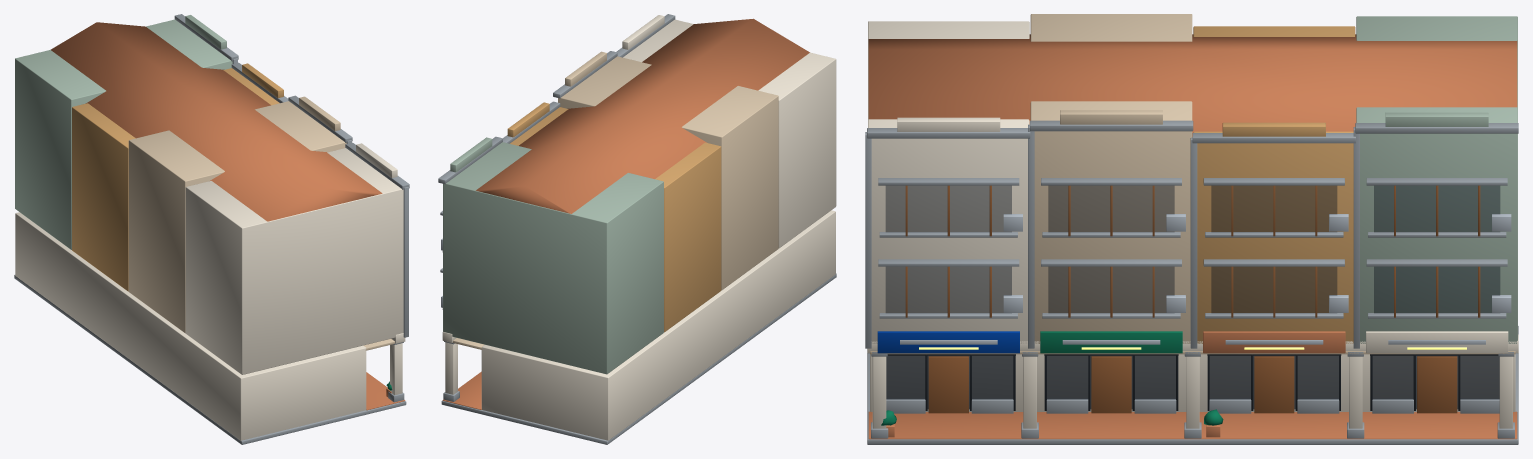
File: kl_shoplot_row.glb
3 renders of one model, left to right at view 1: azimuth 30°, elevation 25°; view 2: azimuth 150°, elevation 25°; view 3: azimuth 270°, elevation 25°, orthographic. The views are drawn at different scales.
Visible parts, largest first — view 1: Shop_UpperBlock_0, Shoplot_Pitched_Roof, Shoplot_Ground_Core, Shop_UpperBlock_1, Shop_UpperBlock_3, Shop_UpperBlock_2, Shoplot_Foundation, Shop_Pilaster_0, Shoplot_KakiLima_Floor, Shoplot_ColShaft_0, Shop_ParapetStep_1, Shop_ParapetStep_2 (+3 smaller); view 2: Shop_UpperBlock_3, Shoplot_Pitched_Roof, Shoplot_Ground_Core, Shop_UpperBlock_1, Shop_UpperBlock_0, Shop_UpperBlock_2, Shoplot_Foundation, Shoplot_KakiLima_Floor, Shoplot_ColShaft_4, Shop_ParapetStep_2, Shop_ParapetStep_3, Shop_ParapetStep_0 (+3 smaller); view 3: Shoplot_Pitched_Roof, Shop_UpperBlock_1, Shop_UpperBlock_3, Shop_UpperBlock_0, Shop_UpperBlock_2, Shoplot_Ground_Core, Shoplot_KakiLima_Floor, Shop_WinGlass_0_0, Shop_WinGlass_2_0, Shop_WinGlass_3_0, Shop_WinGlass_2_1, Shop_WinGlass_0_1 (+56 smaller).
Part boxes in pixels (x1,y1,x2,y2): Shop_UpperBlock_0: [185, 148, 403, 374]; Shoplot_Pitched_Roof: [50, 22, 382, 221]; Shoplot_Ground_Core: [15, 212, 366, 440]; Shop_UpperBlock_1: [128, 101, 346, 333]; Shop_UpperBlock_3: [15, 19, 232, 249]; Shop_UpperBlock_2: [72, 68, 279, 291]; Shoplot_Foundation: [14, 275, 406, 444]; Shop_Pilaster_0: [403, 186, 408, 337]; Shoplot_KakiLima_Floor: [366, 372, 405, 410]; Shoplot_ColShaft_0: [390, 343, 402, 395]; Shop_ParapetStep_1: [299, 96, 340, 131]; Shop_ParapetStep_2: [242, 63, 283, 97]; Shop_UpperBlock_3: [443, 142, 663, 374]; Shoplot_Pitched_Roof: [476, 18, 809, 213]; Shoplot_Ground_Core: [481, 210, 835, 440]; Shop_UpperBlock_1: [558, 56, 778, 290]; Shop_UpperBlock_0: [623, 19, 836, 248]; Shop_UpperBlock_2: [510, 107, 721, 332]; Shoplot_Foundation: [441, 273, 836, 444]; Shoplot_KakiLima_Floor: [442, 371, 481, 409]; Shoplot_ColShaft_4: [445, 342, 457, 394]; Shop_ParapetStep_2: [507, 102, 549, 137]; Shop_ParapetStep_3: [450, 137, 492, 172]; Shop_ParapetStep_0: [622, 15, 664, 49]; Shoplot_Pitched_Roof: [868, 34, 1517, 136]; Shop_UpperBlock_1: [1030, 14, 1192, 343]; Shop_UpperBlock_3: [1356, 16, 1517, 343]; Shop_UpperBlock_0: [868, 21, 1029, 343]; Shop_UpperBlock_2: [1193, 26, 1355, 343]; Shoplot_Ground_Core: [870, 354, 1515, 411]; Shoplot_KakiLima_Floor: [868, 411, 1517, 439]; Shop_WinGlass_0_0: [886, 267, 1011, 312]; Shop_WinGlass_2_0: [1211, 267, 1336, 312]; Shop_WinGlass_3_0: [1374, 267, 1499, 312]; Shop_WinGlass_2_1: [1211, 186, 1336, 231]; Shop_WinGlass_0_1: [886, 186, 1011, 231].
Size of the model in its own units: 10.32 by 13.75 by 24.09.
